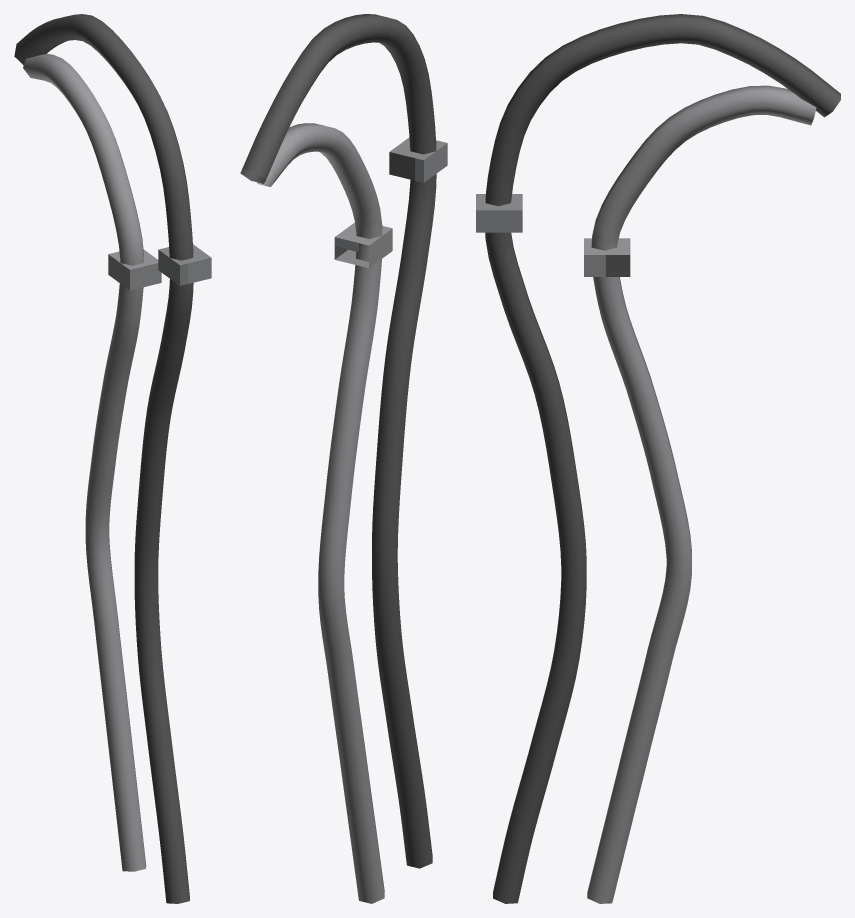
The picture shows the model from 3 angles, left to right: view 1: azimuth 30°, elevation 25°; view 2: azimuth 150°, elevation 25°; view 3: azimuth 270°, elevation 25°; orthographic projection. The views are drawn at different scales.
Bounding box in the file's own units: 0.032 × 0.795 × 0.2978.
